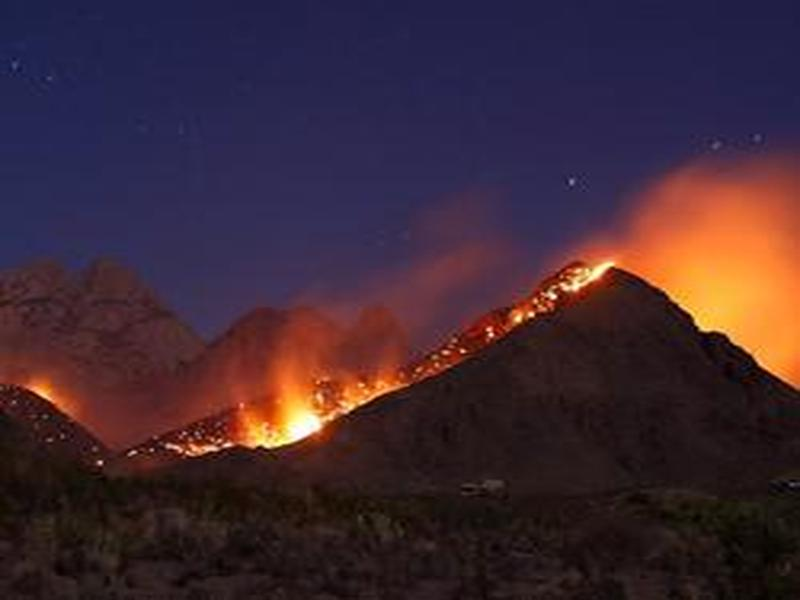FIRE: (13, 311, 485, 471)
